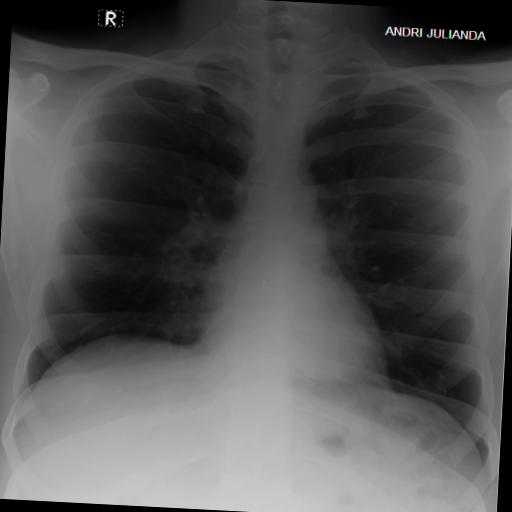normal: (5, 12, 512, 471)
